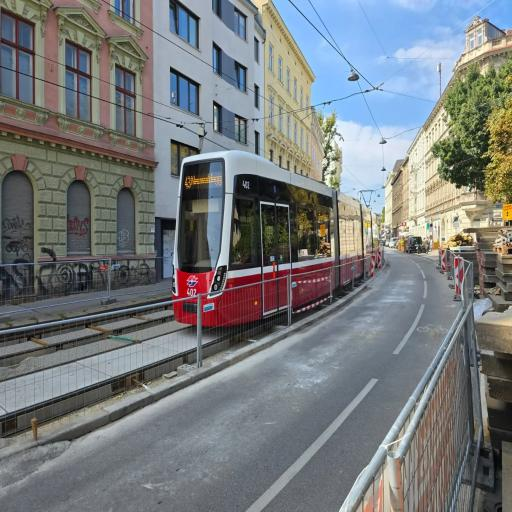Flexity: (172, 152, 380, 332)
